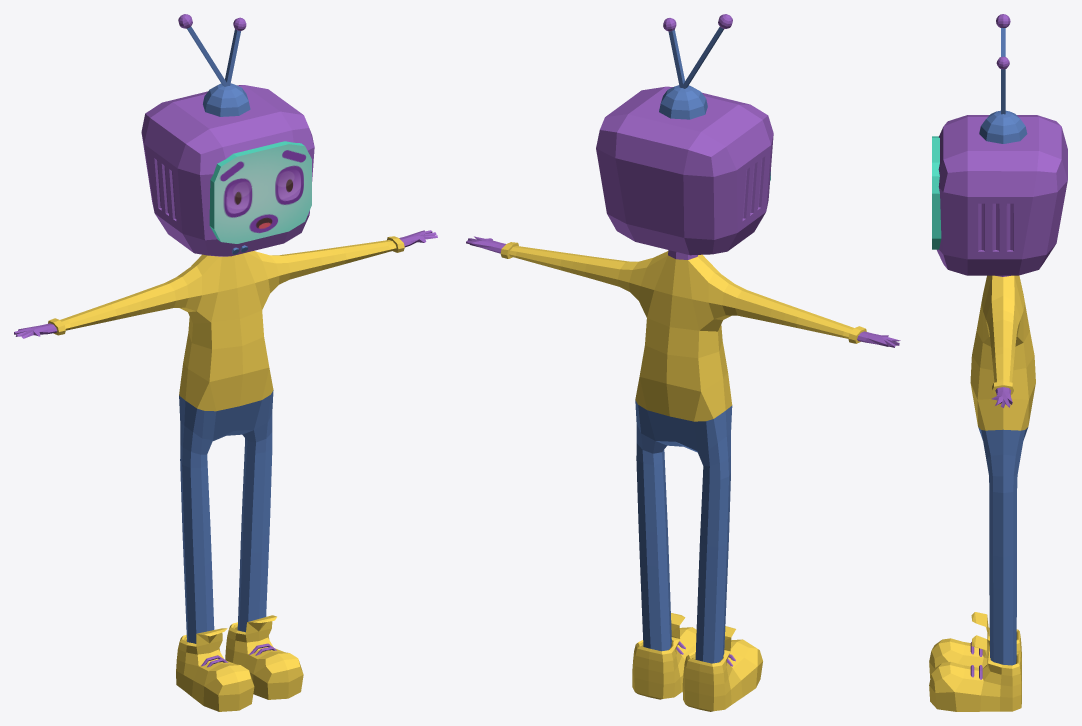
Rendered from customer_improved.fbx.
3 views of the same model, side by side, from view 1: azimuth 30°, elevation 25°; view 2: azimuth 150°, elevation 25°; view 3: azimuth 270°, elevation 25° (orthographic). The views are drawn at different scales.
Visible parts, largest first — view 1: customer; view 2: customer; view 3: customer.
Boxes of the visible parts, left/top/right/bottom form: customer: left=14, top=14, right=437, bottom=711; customer: left=466, top=14, right=900, bottom=711; customer: left=929, top=14, right=1067, bottom=711.
Size of the model in its own units: 280 by 430 by 82.11.
6 materials, 1 textured.
